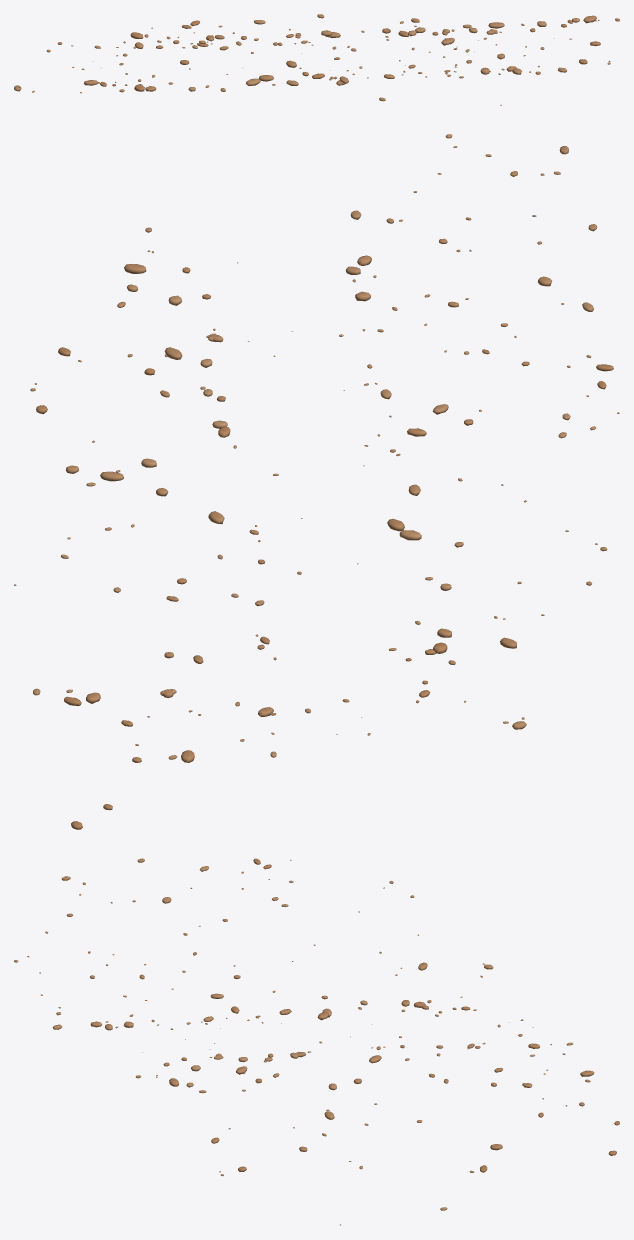
File: terrain-093.glb
3 views of the same model, one above another, from view 1: azimuth 30°, elevation 25°; view 2: azimuth 150°, elevation 25°; view 3: azimuth 270°, elevation 25° (orthographic). The views are drawn at different scales.
Visible parts, largest first — view 1: terrain-093; view 2: terrain-093; view 3: terrain-093.
Part boxes in pixels (x1,y1,x2,y2): terrain-093: (14, 14, 619, 105); terrain-093: (14, 134, 619, 829); terrain-093: (14, 858, 619, 1225).
Size of the model in its own units: 58.8 by 31.2 by 66.83.
